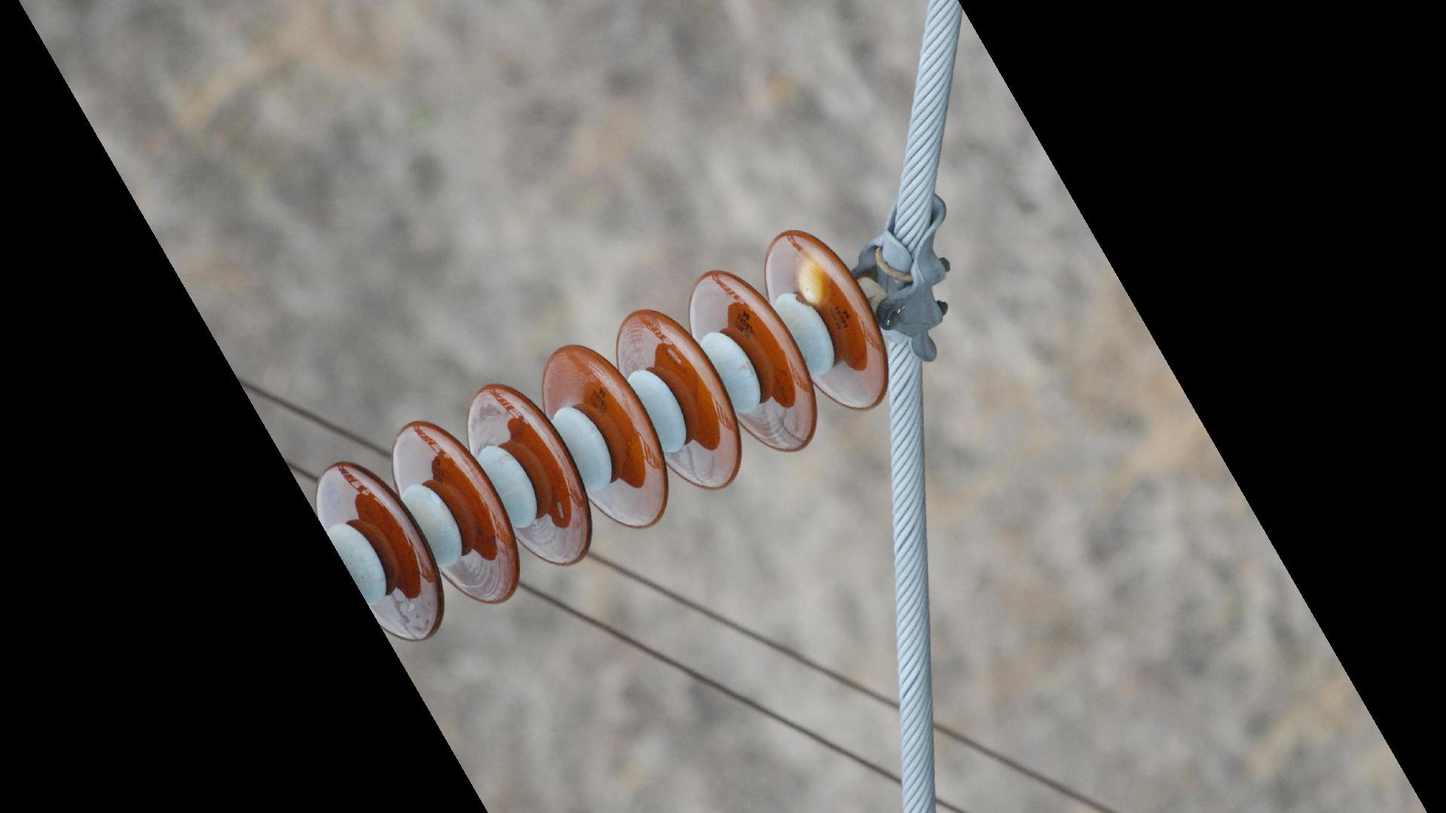insulator: (312, 225, 892, 647)
insulator_flashover: (793, 244, 837, 306)
